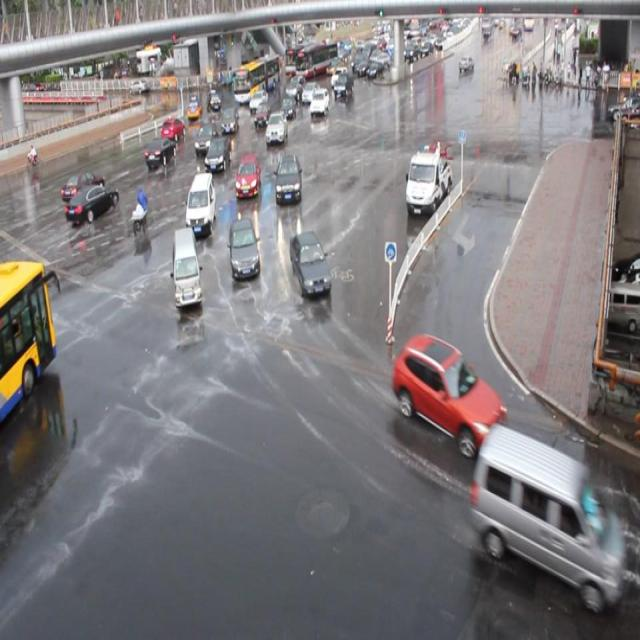bus: (404, 147, 452, 214)
car: (394, 334, 508, 454), (288, 229, 332, 296), (65, 184, 119, 223), (228, 217, 262, 278), (274, 155, 302, 202), (61, 172, 106, 201), (234, 154, 260, 198), (144, 136, 176, 166), (204, 137, 232, 171), (195, 123, 221, 152), (265, 111, 288, 142), (160, 118, 185, 142), (309, 88, 329, 115), (285, 75, 305, 99), (220, 107, 238, 132), (301, 81, 320, 103), (279, 96, 296, 120), (254, 103, 272, 125), (249, 90, 268, 110), (186, 97, 202, 119), (206, 90, 221, 110)
truck: (472, 423, 605, 596), (172, 228, 203, 306), (185, 173, 216, 234)
van: (1, 261, 57, 424), (232, 53, 280, 103)
